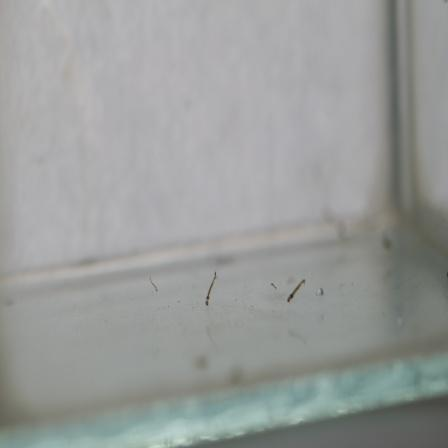Jentik-Nyamuk: (200, 267, 221, 308), (282, 276, 307, 303)
